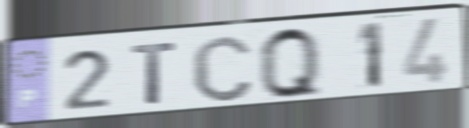1: (355, 19, 384, 94)
2: (60, 48, 113, 113)
4: (399, 14, 454, 89)
C: (189, 32, 256, 105)
Q: (256, 23, 326, 101)
T: (129, 40, 181, 107)
